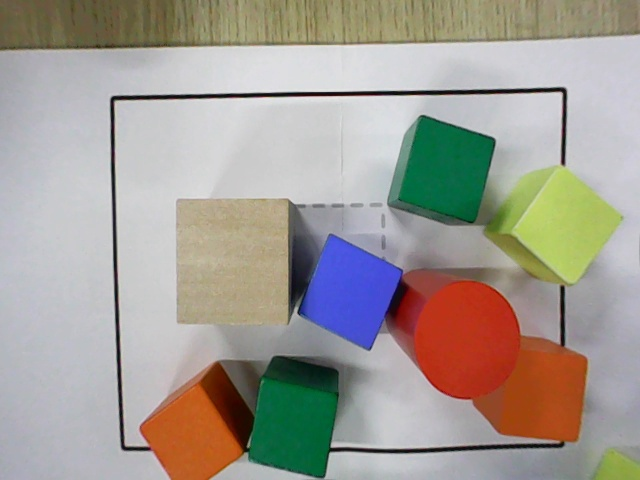upside of big cube: (175, 197, 288, 326)
upside of cylinder: (414, 282, 521, 400)
upside of small cube: (511, 166, 623, 286), (297, 233, 403, 351), (398, 114, 497, 224), (138, 382, 245, 479), (249, 377, 339, 478), (499, 351, 588, 442)
